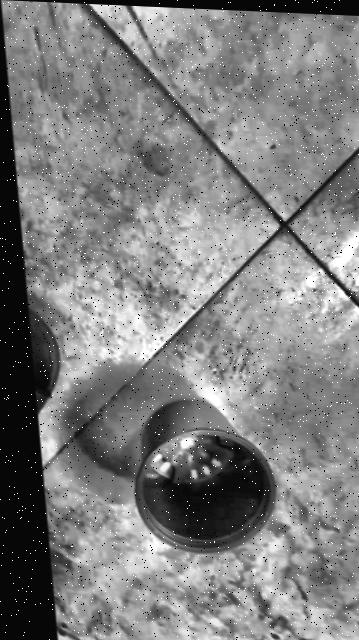pot: (125, 398, 282, 556)
